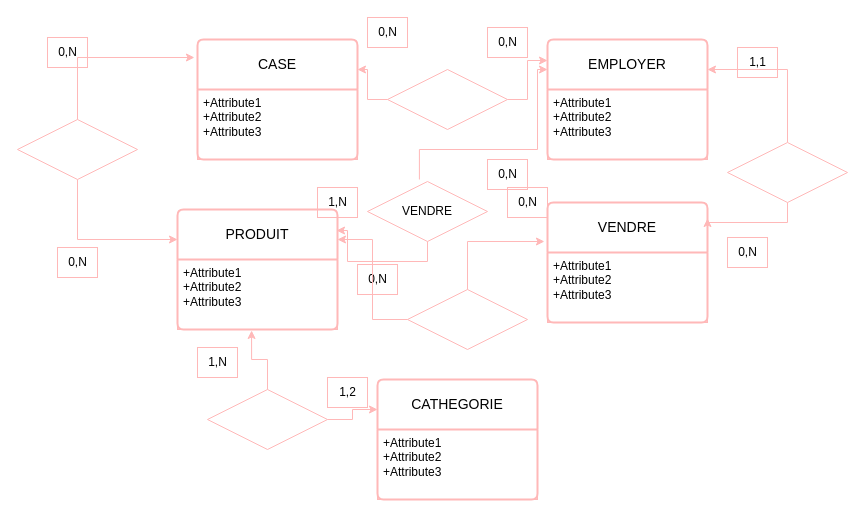
This 865x518 diagram has some shape labels left out. Each missing label, with the centre of its shape:
"CONNECTER" goes at pixel 447 99.
"REFERENCER" goes at pixel 467 319.
"Relationship" goes at pixel 787 172.
"SCANNER" goes at pixel 77 149.
"SE TROUVER" goes at pixel 267 419.
